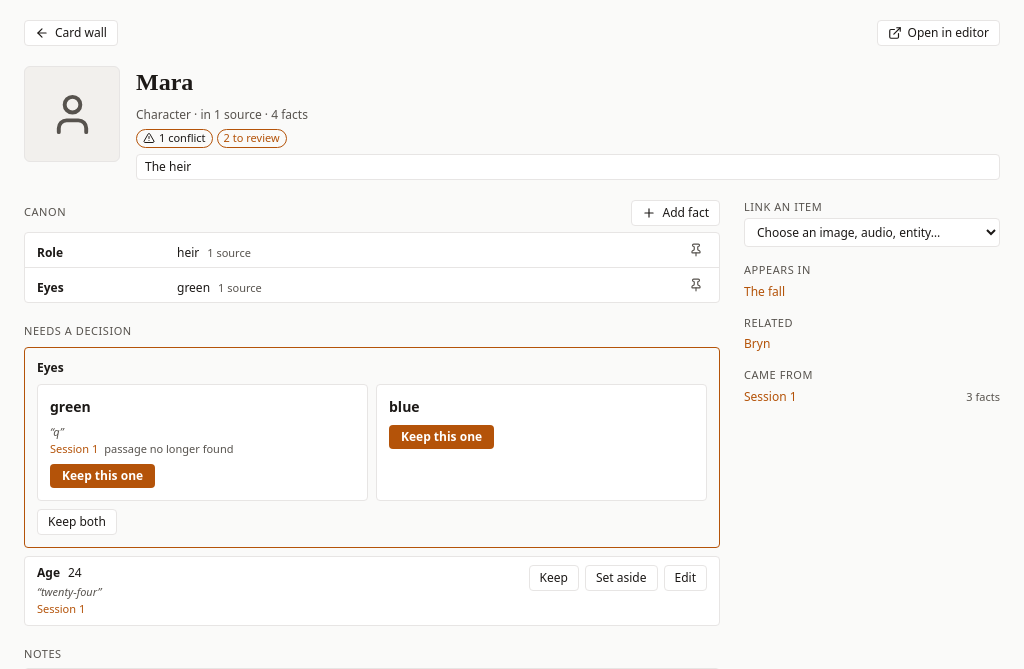
EntityCard › resolves a conflict with one click and moves it out of Needs a decision
The width and height of the screenshot is (1024, 669).
Expected: the heading "Eyes" is shown, [37, 359, 64, 376]
Click the button "Keep this one" below "blue". click: (442, 437)
box: [389, 425, 494, 449]
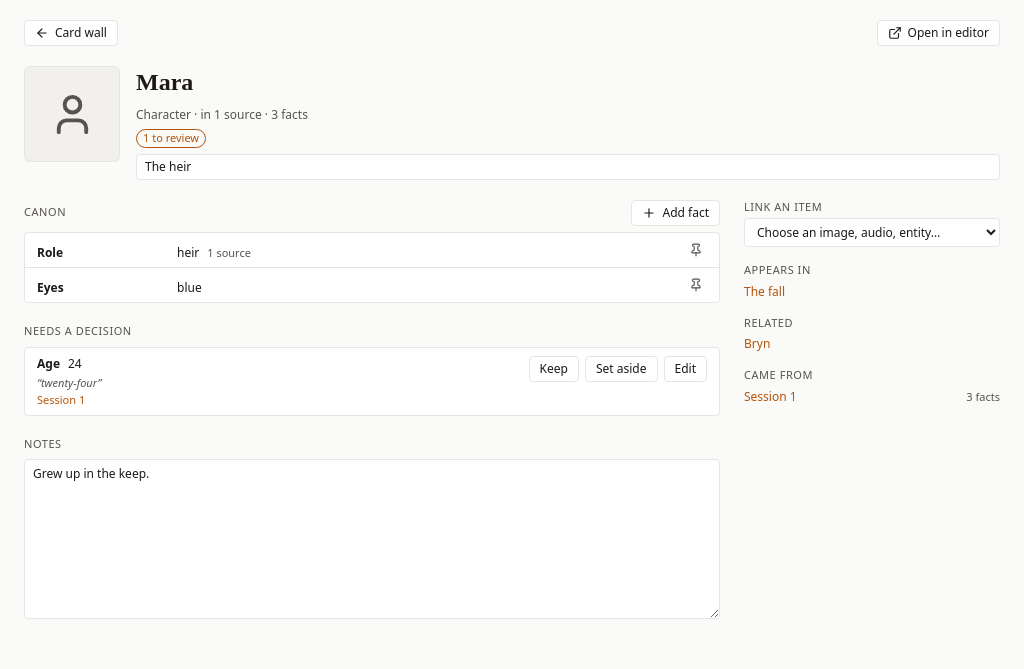
Expected: the text "blue" is shown, [177, 280, 202, 296]
Expected: the button "Keep this one" is gone
